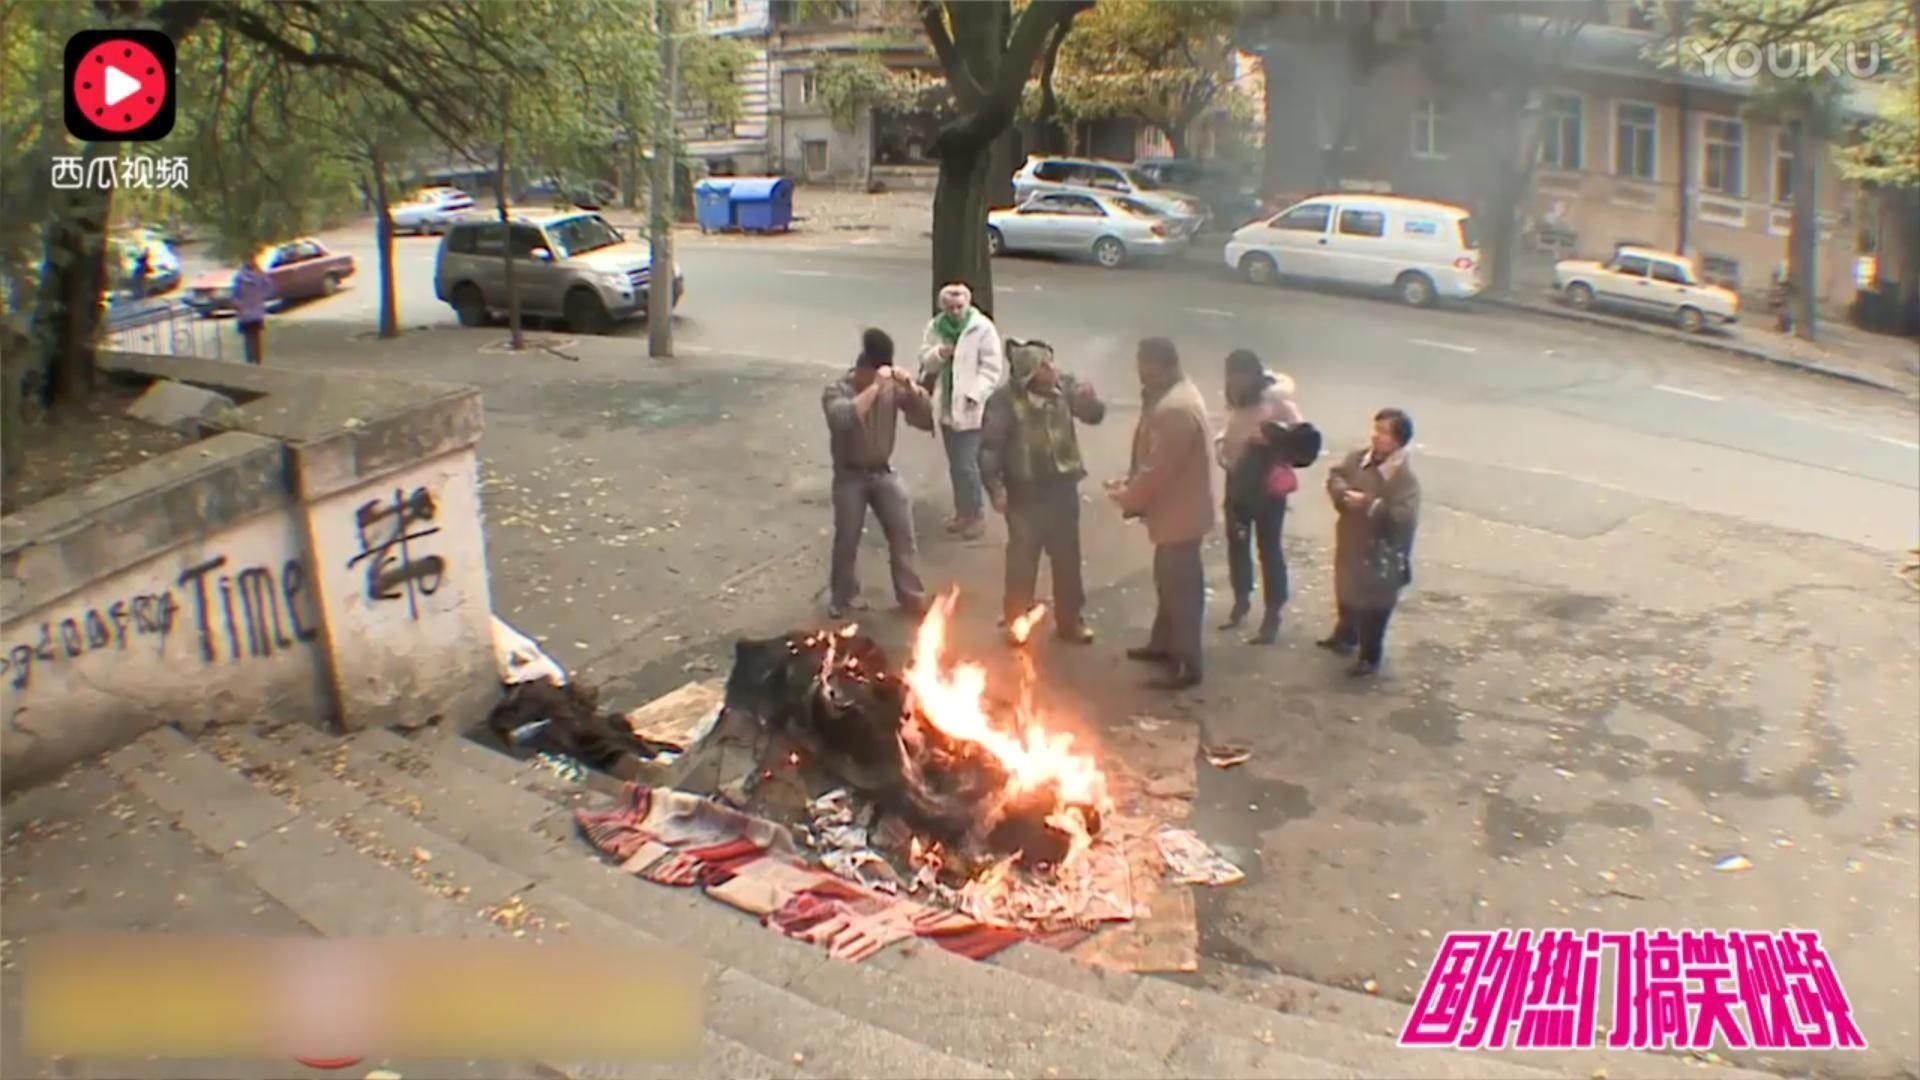fire: (902, 597, 1116, 833)
